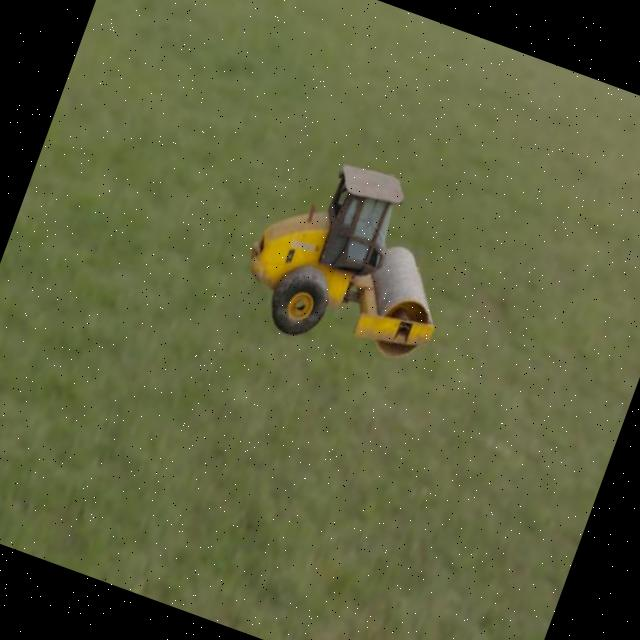Roller: (227, 138, 479, 382)
